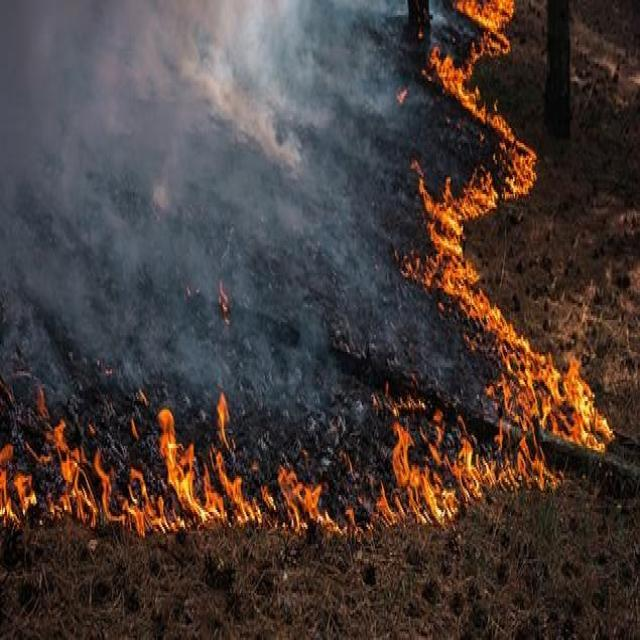Fire: (1, 2, 616, 542)
Smoke: (1, 2, 447, 429)
